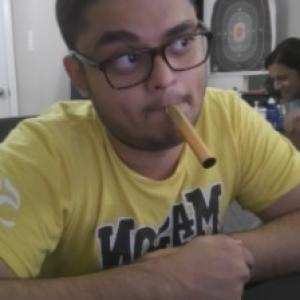Golden-E-Ciggirate: (165, 102, 218, 172)
